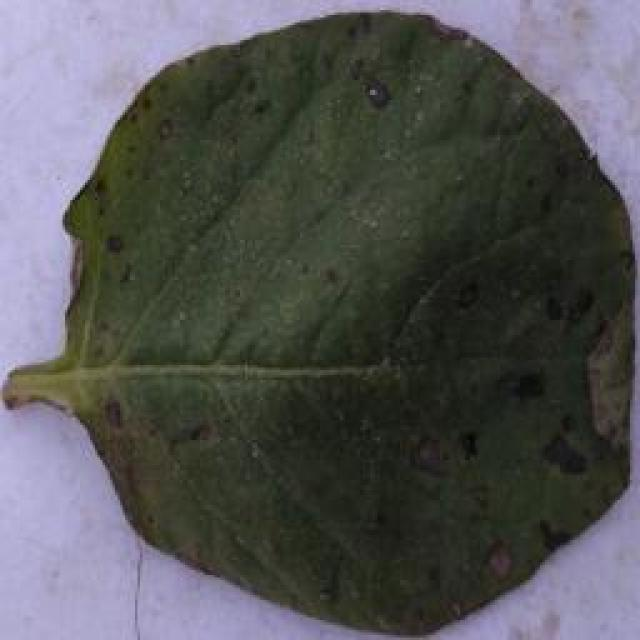Potato_Early_Blight: (4, 7, 634, 631)
